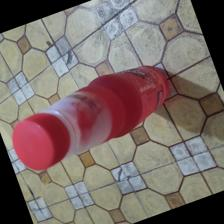Sting: (12, 66, 168, 171)
